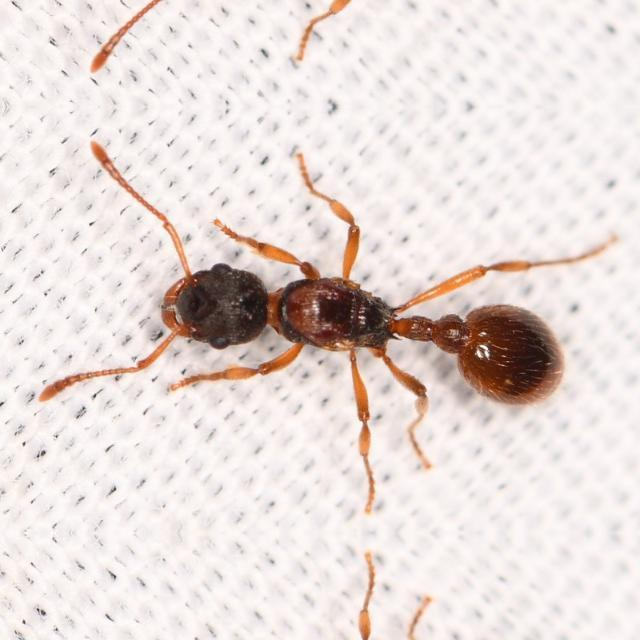Myrmica: (68, 171, 532, 433)
